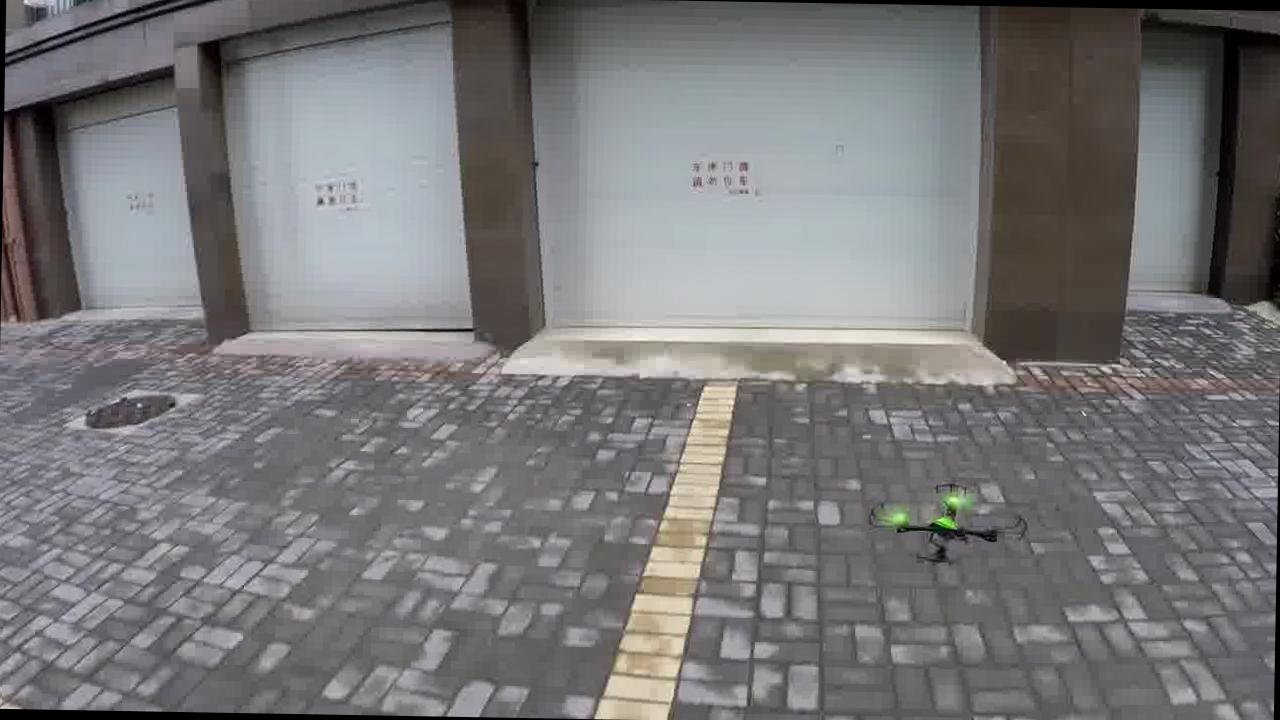drone: (855, 475, 1042, 577)
